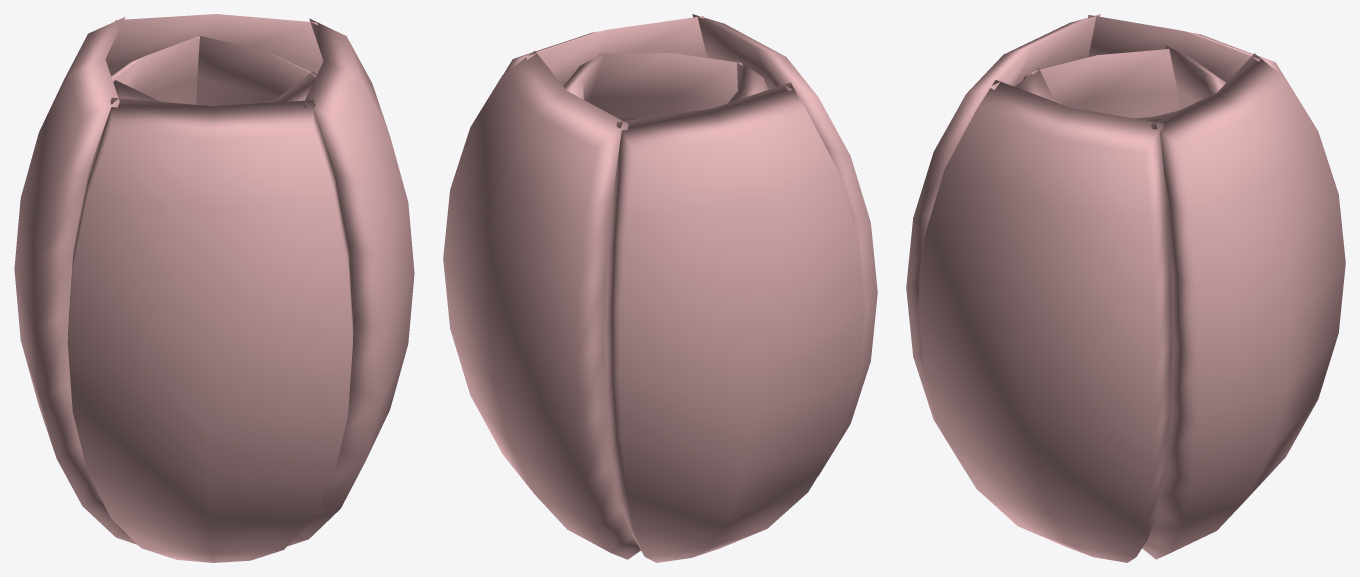
The picture shows the model from 3 angles, left to right: view 1: azimuth 30°, elevation 25°; view 2: azimuth 150°, elevation 25°; view 3: azimuth 270°, elevation 25°; orthographic projection. The views are drawn at different scales.
Visible parts, largest first — view 1: 球体.008, 球体.011, 球体.009, 球体.010, 球体.014, 球体.013, 球体.015; view 2: 球体.009, 球体.010, 球体.008, 球体.015, 球体.011, 球体.014, 球体.012; view 3: 球体.011, 球体.010, 球体.008, 球体.012, 球体.009, 球体.013, 球体.015.
Part boxes in pixels (left/top/right/bottom): 球体.008: left=67, top=97, right=353, bottom=562; 球体.011: left=287, top=18, right=414, bottom=546; 球体.009: left=14, top=17, right=137, bottom=544; 球体.010: left=105, top=14, right=323, bottom=104; 球体.014: left=197, top=35, right=316, bottom=106; 球体.013: left=111, top=35, right=201, bottom=104; 球体.015: left=265, top=71, right=316, bottom=102; 球体.009: left=605, top=82, right=865, bottom=562; 球体.010: left=443, top=51, right=640, bottom=559; 球体.008: left=692, top=14, right=877, bottom=476; 球体.015: left=589, top=53, right=742, bottom=118; 球体.011: left=504, top=16, right=707, bottom=86; 球体.014: left=563, top=52, right=606, bottom=102; 球体.012: left=728, top=60, right=768, bottom=102; 球体.011: left=917, top=80, right=1172, bottom=562; 球体.010: left=1142, top=53, right=1345, bottom=559; 球体.008: left=906, top=14, right=1100, bottom=471; 球体.012: left=1023, top=49, right=1179, bottom=118; 球体.009: left=1088, top=15, right=1284, bottom=82; 球体.013: left=1165, top=45, right=1225, bottom=109; 球体.015: left=1015, top=68, right=1061, bottom=104.
Size of the model in its own units: 1.76 by 2.09 by 1.76.
